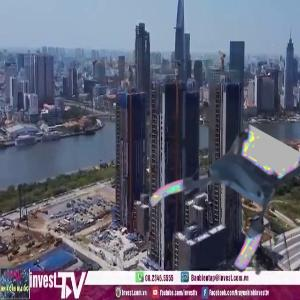drone: (156, 122, 298, 264)
